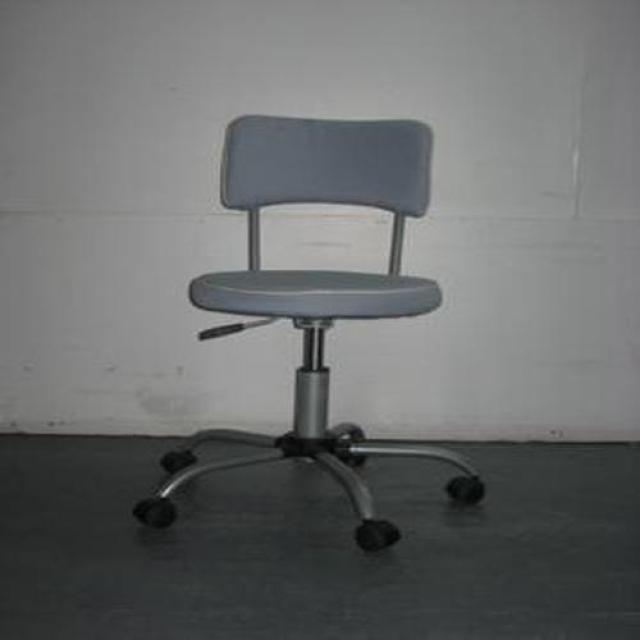swivelchair: (133, 115, 489, 554)
